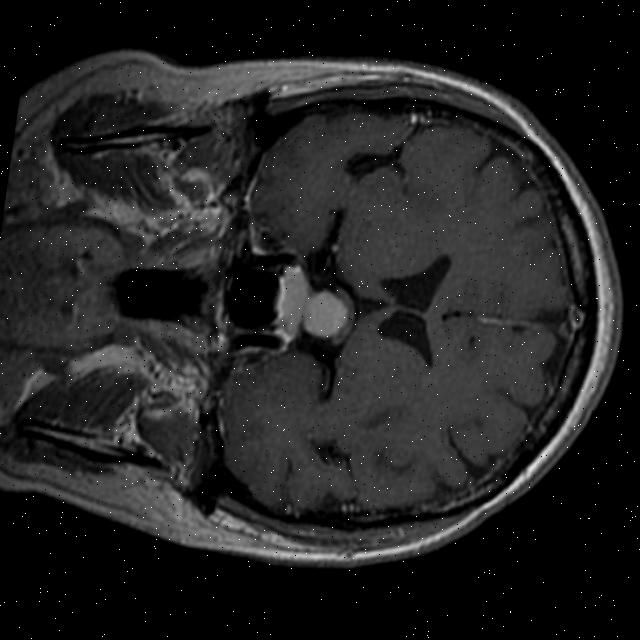Pituitary: (270, 261, 355, 346)
